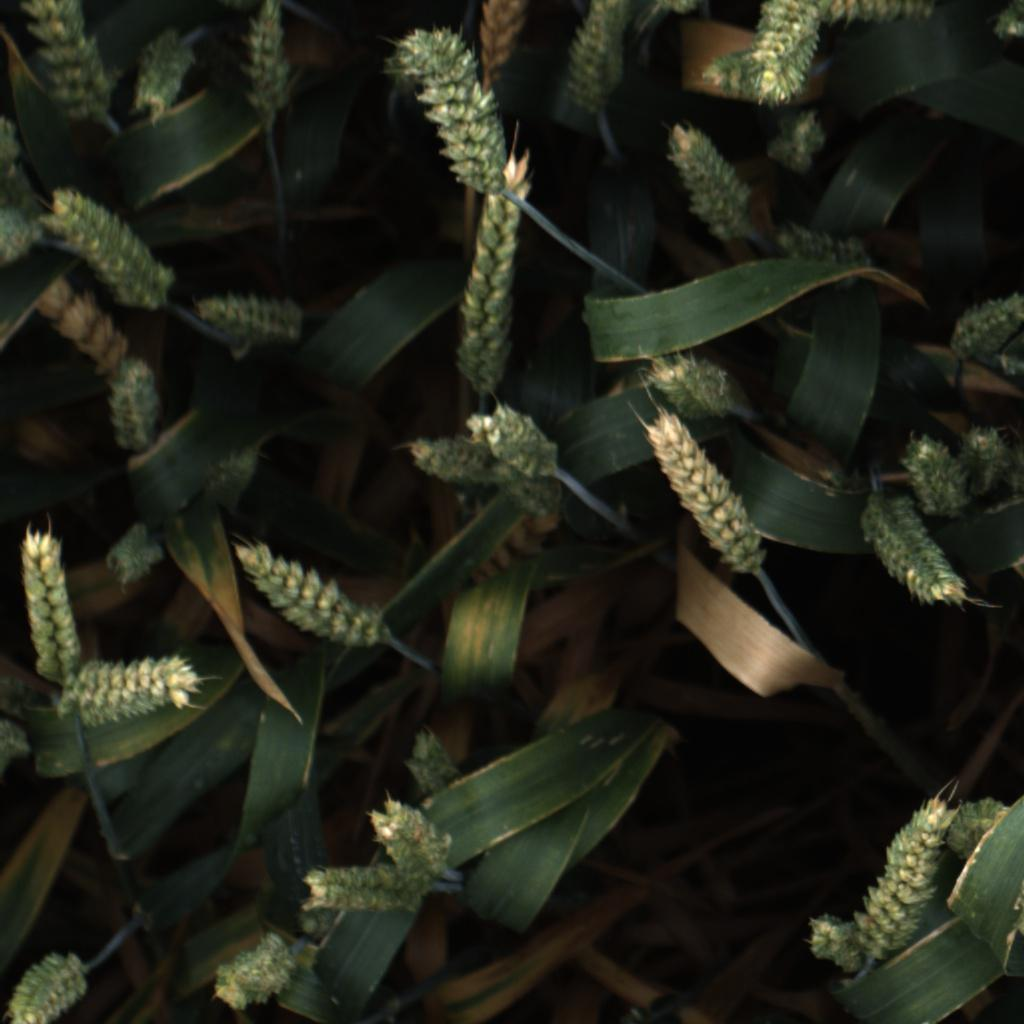0-0: (628, 410, 770, 573), (450, 156, 545, 387), (388, 19, 516, 190), (222, 533, 388, 646), (43, 179, 176, 298), (858, 787, 955, 948), (28, 278, 139, 391), (855, 499, 970, 608), (56, 647, 206, 727), (15, 0, 113, 118), (655, 118, 748, 239), (14, 522, 83, 669), (562, 0, 636, 112), (363, 792, 454, 882), (297, 859, 419, 923), (471, 401, 572, 477), (211, 928, 295, 1016), (191, 287, 309, 348), (238, 0, 291, 129), (6, 941, 87, 1024), (641, 344, 736, 414), (100, 353, 167, 451), (770, 221, 869, 281), (950, 281, 1024, 360), (193, 436, 269, 512), (697, 53, 812, 103), (902, 423, 972, 505), (133, 22, 189, 119), (794, 904, 866, 974), (100, 516, 167, 591), (412, 420, 485, 487), (944, 787, 1008, 860), (763, 106, 827, 177), (953, 420, 1014, 494), (404, 724, 460, 795), (478, 0, 542, 62), (817, 0, 940, 32), (749, 0, 815, 56)
